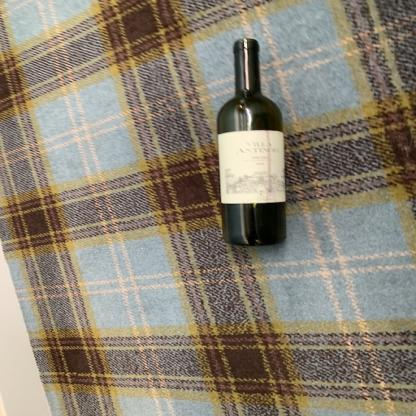trash: (214, 38, 289, 246)
